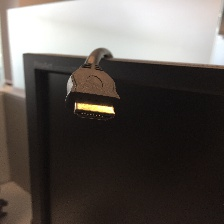hdmi_male: (50, 52, 126, 123)
